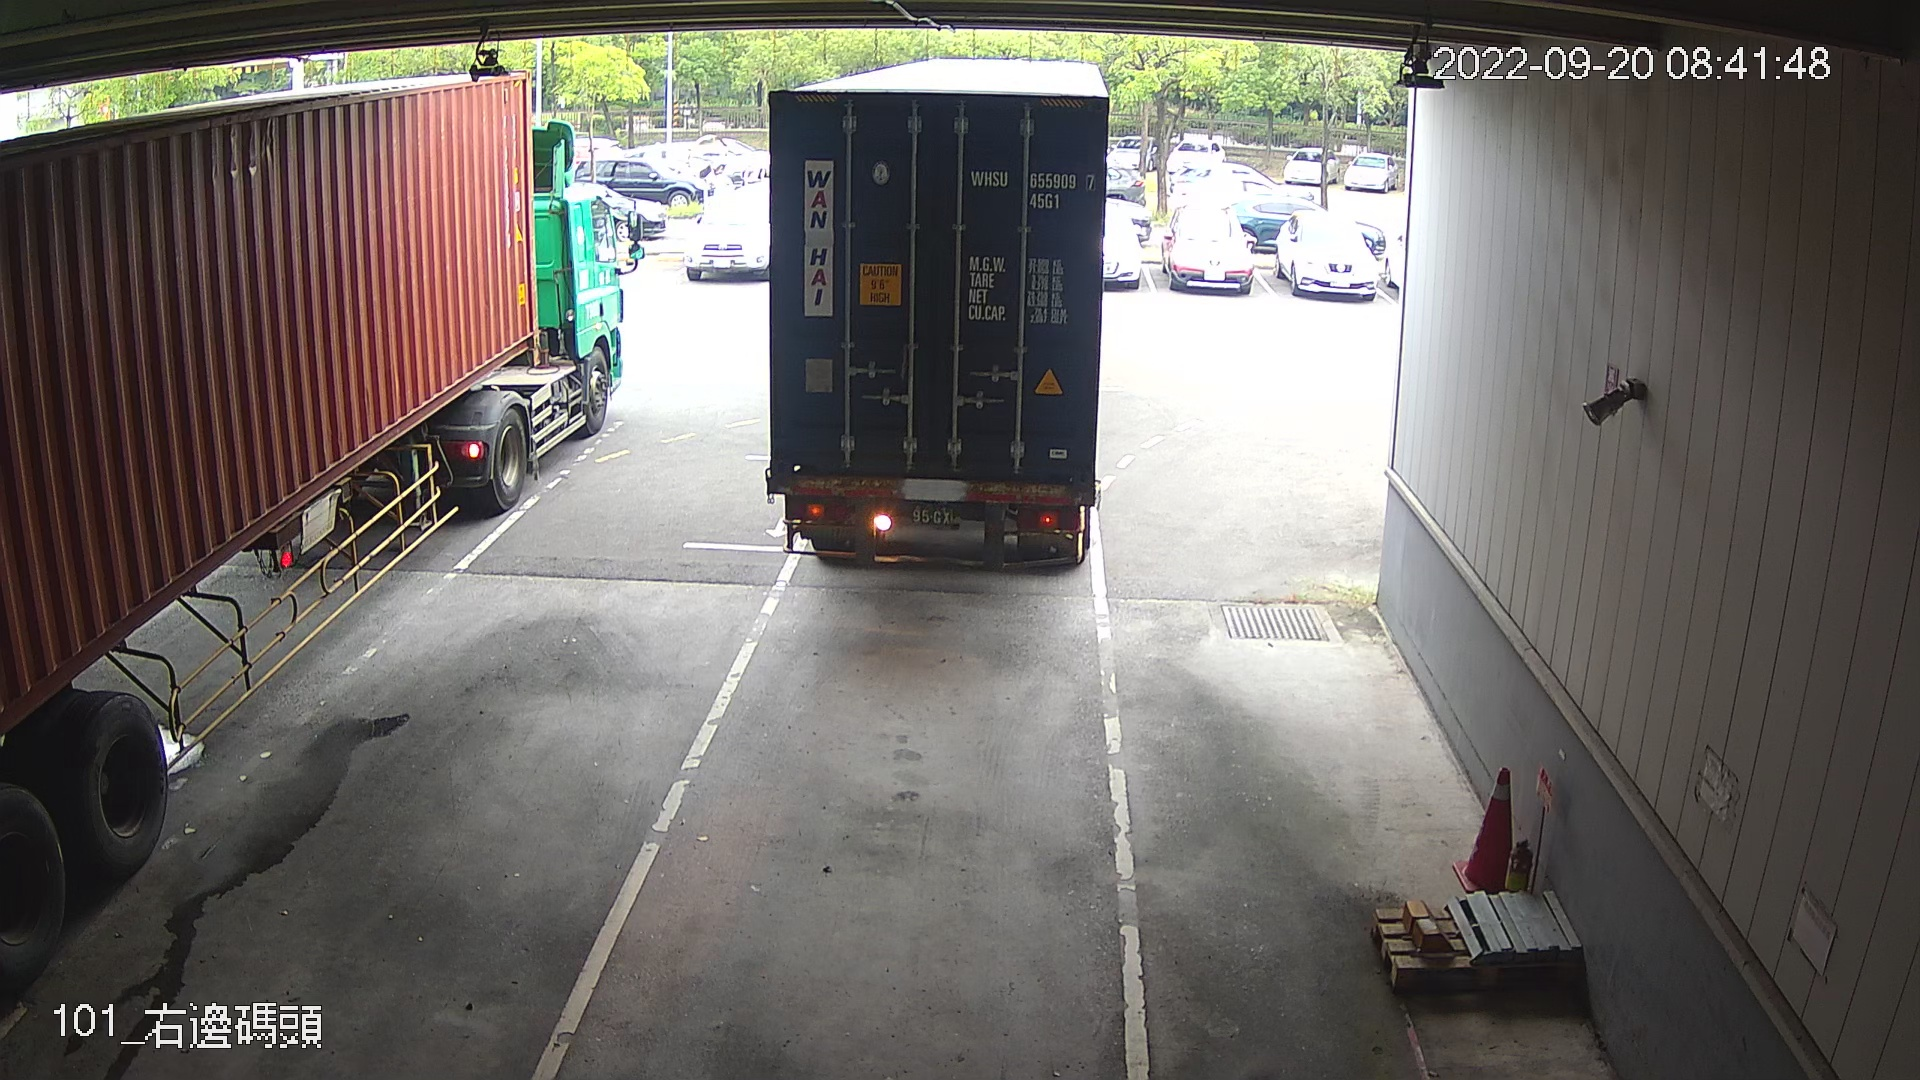container: (967, 164, 1098, 216)
